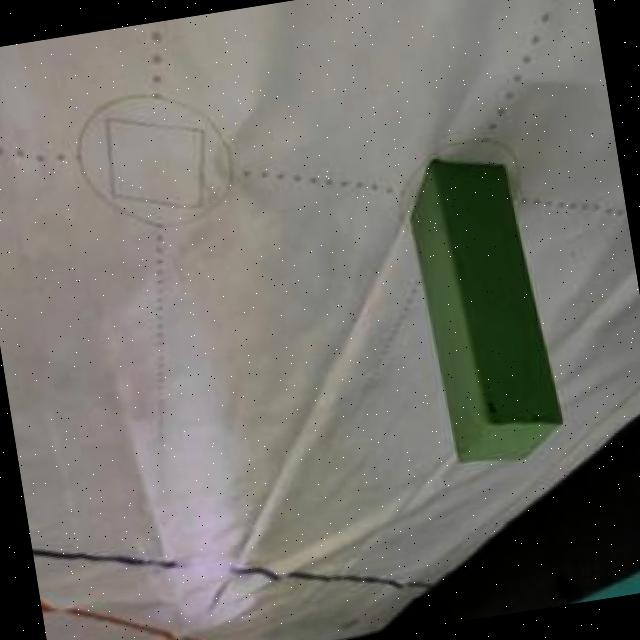greenbox: (402, 146, 570, 474)
